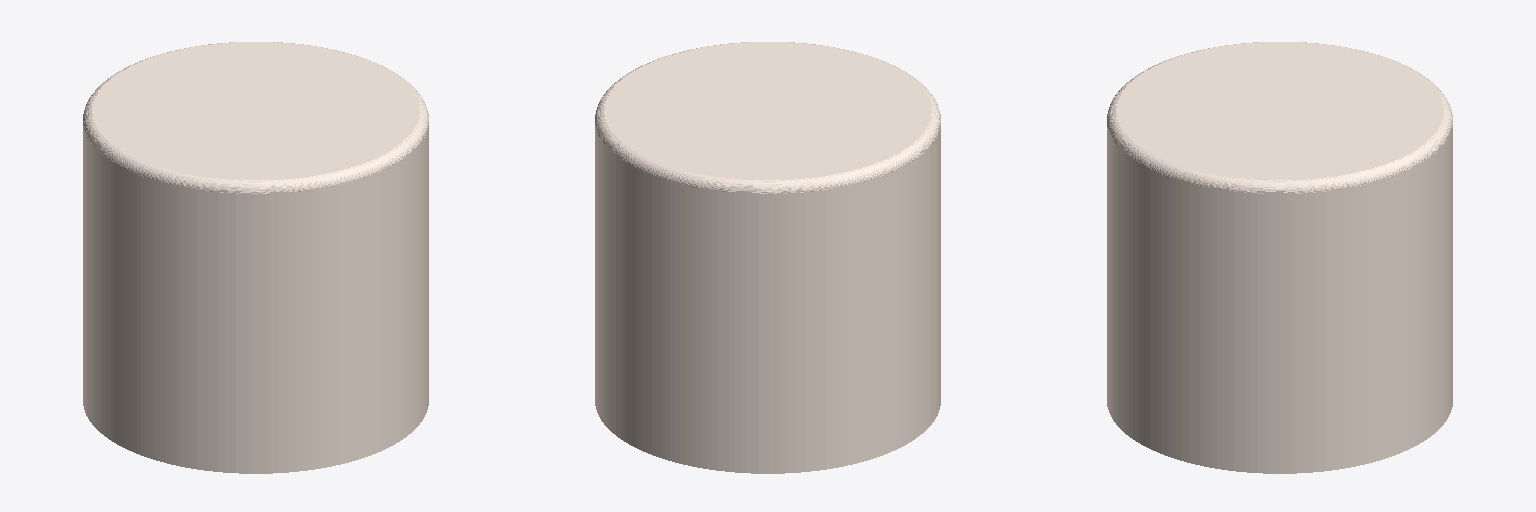
Rendered from Anvil.obj.
3 renders of one model, left to right at view 1: azimuth 30°, elevation 25°; view 2: azimuth 150°, elevation 25°; view 3: azimuth 270°, elevation 25°, orthographic.
Parts seen in each view (by area): view 1: Zaoblit1; view 2: Zaoblit1; view 3: Zaoblit1.
Part boxes in pixels (bbox=[...]): Zaoblit1: bbox=[83, 42, 428, 473]; Zaoblit1: bbox=[595, 42, 940, 473]; Zaoblit1: bbox=[1107, 42, 1452, 473].
Size of the model in its own units: 0.256 by 0.2362 by 0.2558.